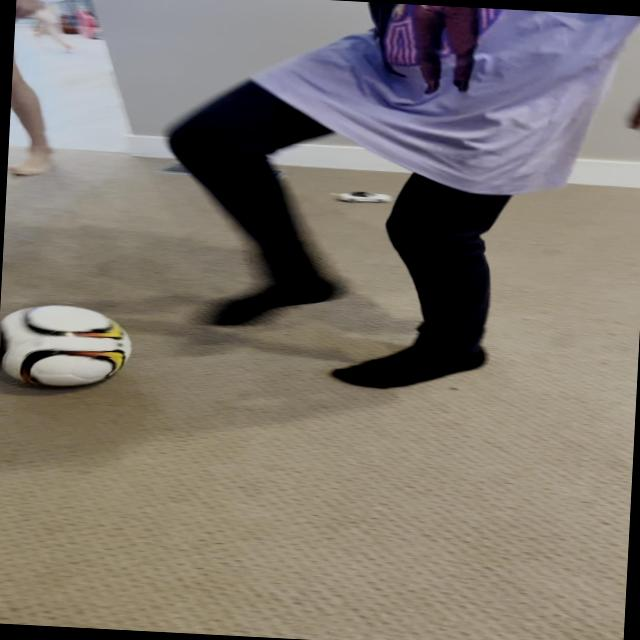Soccer Ball: (0, 300, 132, 389)
